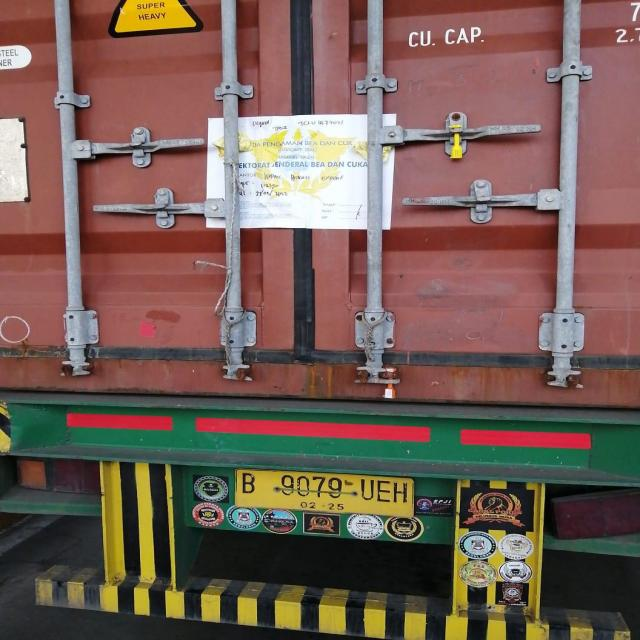seal: (447, 122, 469, 160), (384, 364, 403, 401)
